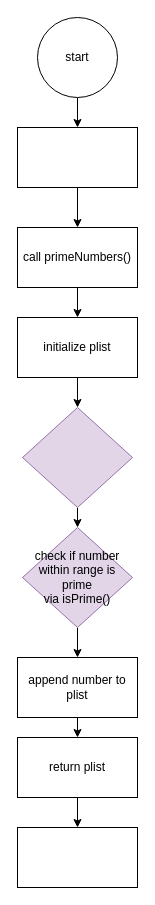
Some shapes in this 155 by 905 pixel diagram are drawn without their labels. Here are the shapes that lost their labels. From the top down, the centre of each, then its label:
pixel 77 157: initialize variables
pixel 77 457: iterate through begin, end + 1
pixel 77 857: print result
